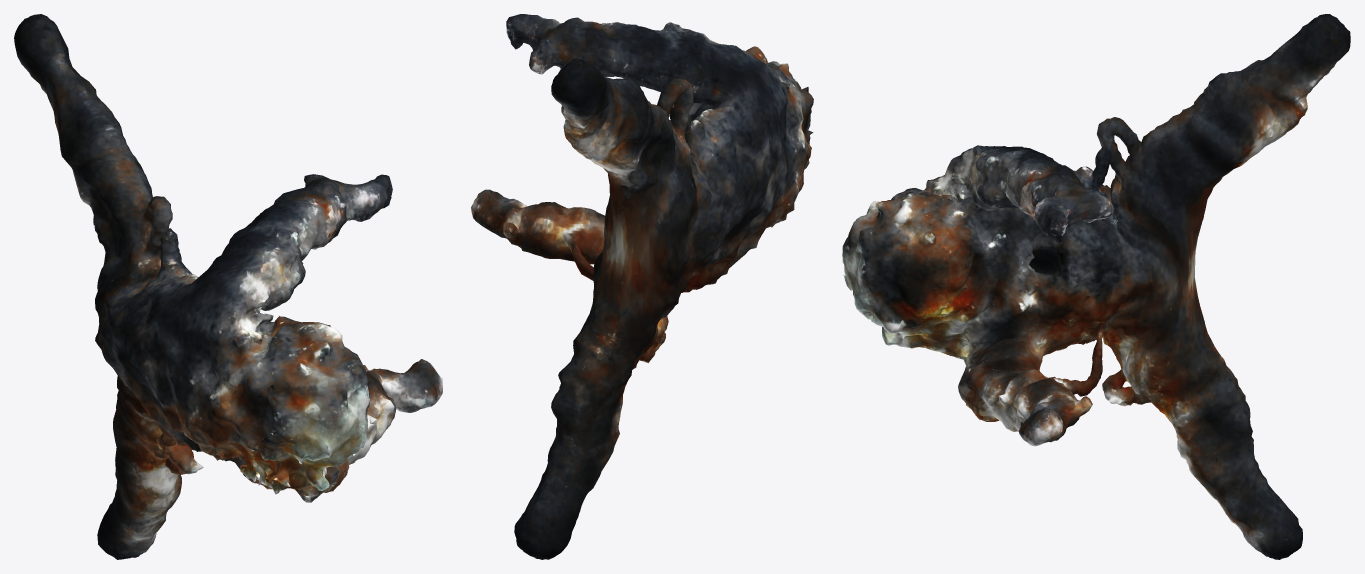
The model's file is astronaut_pose0.gltf.
3 renders of one model, left to right at view 1: azimuth 30°, elevation 25°; view 2: azimuth 150°, elevation 25°; view 3: azimuth 270°, elevation 25°, orthographic. The views are drawn at different scales.
Parts seen in each view (by area): view 1: pose0; view 2: pose0; view 3: pose0.
Boxes of the visible parts, x1,y1,x2,y2 form: pose0: (14, 14, 442, 559); pose0: (471, 14, 813, 559); pose0: (842, 14, 1350, 559).
Bounding box in the file's own units: 0.6109 × 1.04 × 0.9384.
1 material, 1 textured.
